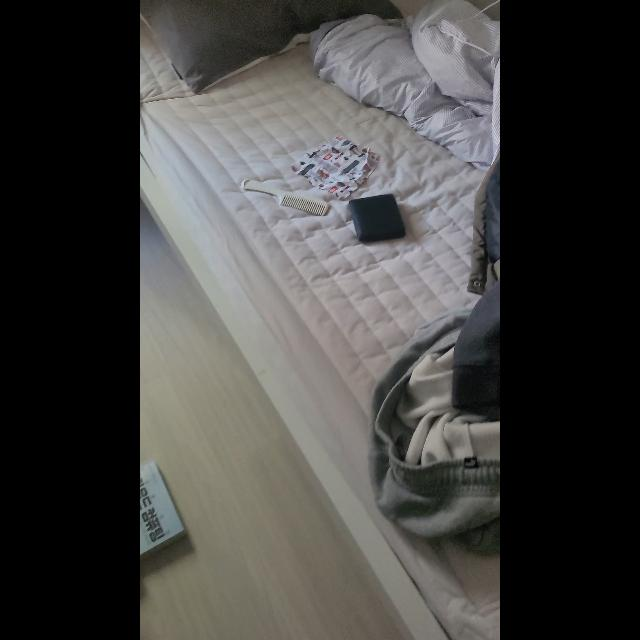COMB: (240, 179, 330, 217)
Glasses cleaning cloth: (292, 136, 381, 200)
WALLET: (349, 192, 406, 244)
